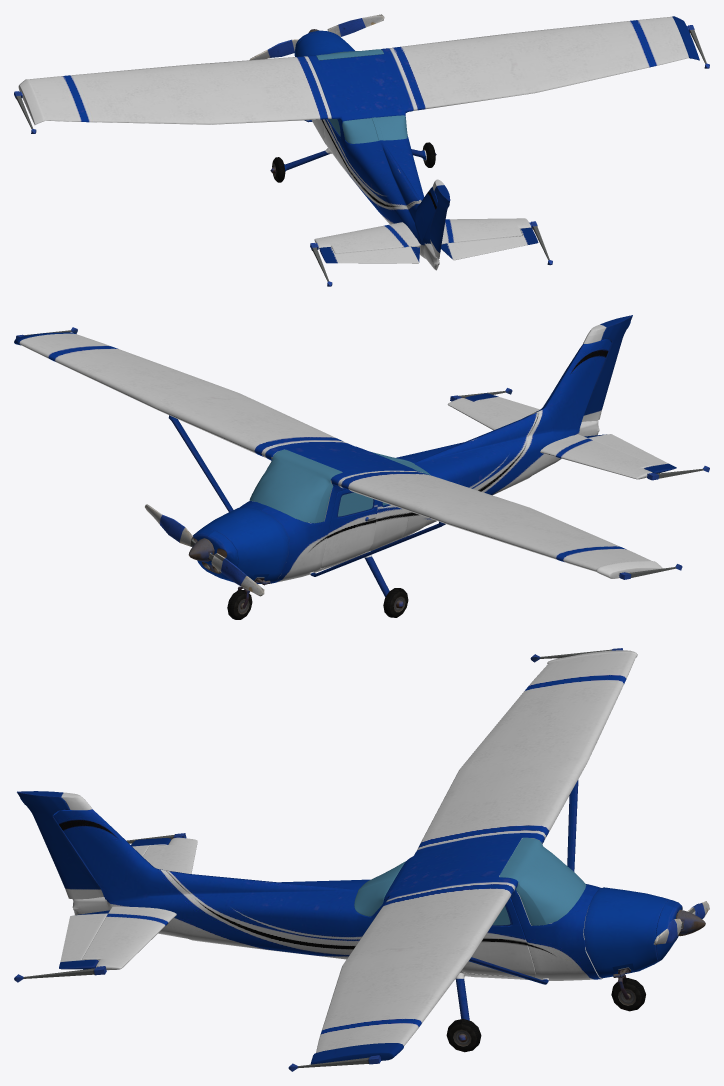
3 views of the same model, one above another, from view 1: azimuth 30°, elevation 25°; view 2: azimuth 150°, elevation 25°; view 3: azimuth 270°, elevation 25° (orthographic). The views are drawn at different scales.
Parts seen in each view (by area): view 1: empty_9, empty_11, empty_8, empty_4, empty_6, empty_12, empty_13, empty_10; view 2: empty_9, empty_8, empty_13, empty_4, empty_6, empty_12, empty_10, empty_11; view 3: empty_9, empty_13, empty_8, empty_10, empty_6, empty_4, empty_11, empty_12.
Part boxes in pixels (x1=…): empty_9: x1=28, y1=16, x2=688, y2=270; empty_11: x1=319, y1=227, x2=538, y2=263; empty_8: x1=316, y1=49, x2=407, y2=143; empty_4: x1=18, y1=16, x2=699, y2=171; empty_6: x1=14, y1=25, x2=709, y2=286; empty_12: x1=249, y1=14, x2=384, y2=60; empty_13: x1=294, y1=30, x2=354, y2=56; empty_10: x1=429, y1=179, x2=450, y2=258; empty_9: x1=19, y1=333, x2=653, y2=583; empty_8: x1=249, y1=449, x2=430, y2=523; empty_13: x1=193, y1=507, x2=289, y2=583; empty_4: x1=14, y1=332, x2=662, y2=597; empty_6: x1=16, y1=327, x2=709, y2=619; empty_12: x1=145, y1=504, x2=264, y2=596; empty_10: x1=582, y1=315, x2=632, y2=421; empty_11: x1=465, y1=393, x2=676, y2=473; empty_9: x1=53, y1=653, x2=636, y2=1052; empty_13: x1=583, y1=887, x2=682, y2=978; empty_8: x1=354, y1=837, x2=586, y2=925; empty_10: x1=17, y1=791, x2=103, y2=899; empty_6: x1=14, y1=648, x2=645, y2=1071; empty_4: x1=310, y1=650, x2=637, y2=1064; empty_11: x1=59, y1=838, x2=170, y2=969; empty_12: x1=654, y1=901, x2=709, y2=945.
Size of the model in its own units: 1107 by 219 by 805.
6 materials, 6 textured.
